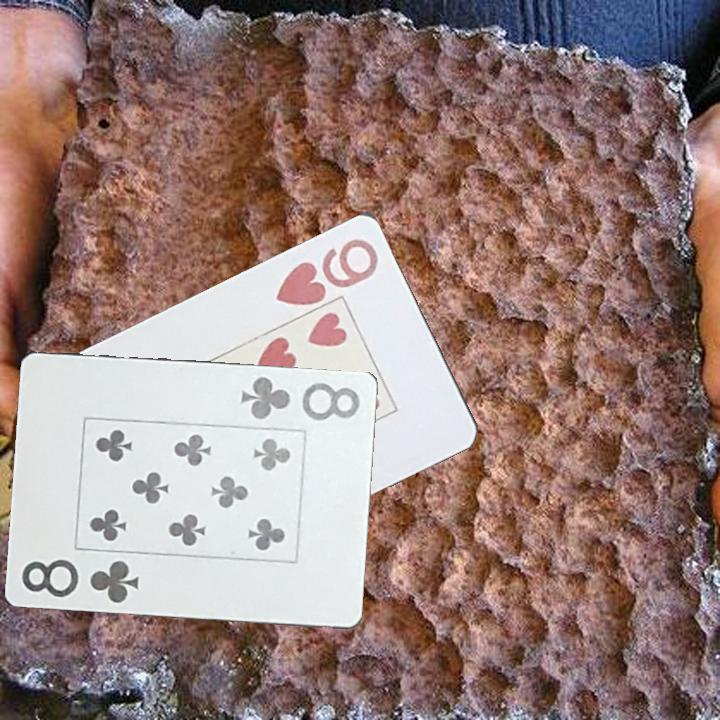8c: (17, 556, 142, 607), (237, 373, 362, 424)
9h: (272, 234, 382, 308)
